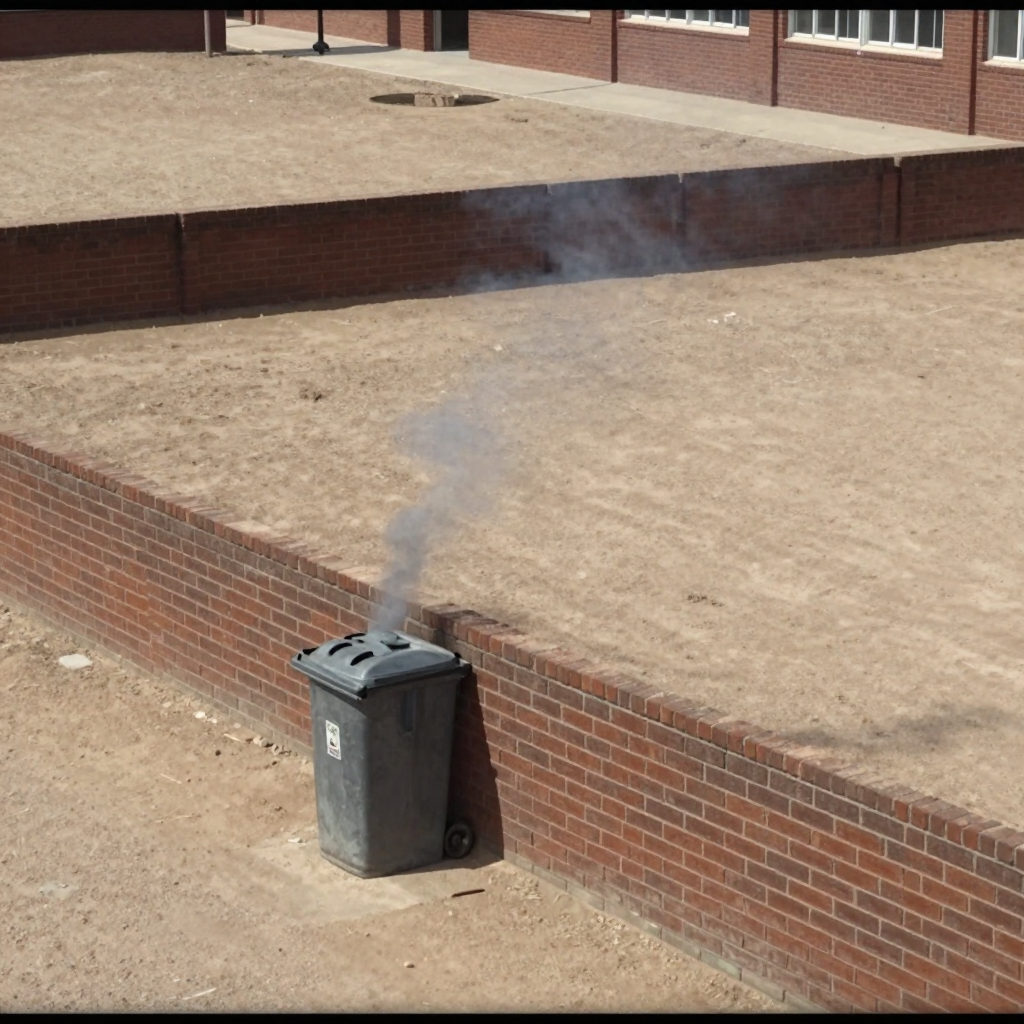Explosion: (347, 118, 807, 656)
